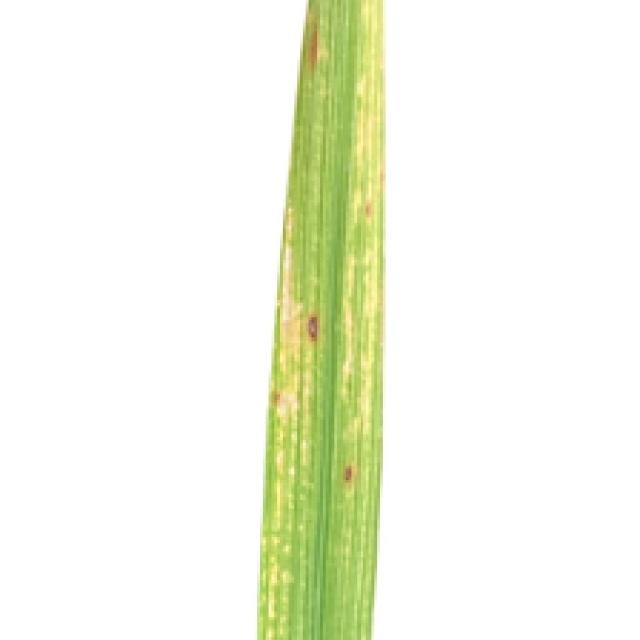Rice___Bacterial_Leaf_Blight: (257, 0, 385, 637)
